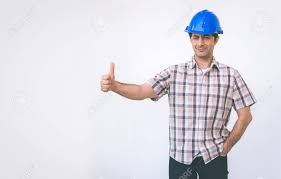Person_wearing_helmet: (182, 7, 224, 43)
